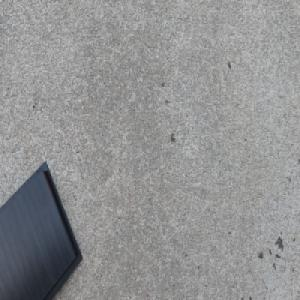PlasticPart: (0, 159, 82, 300)
